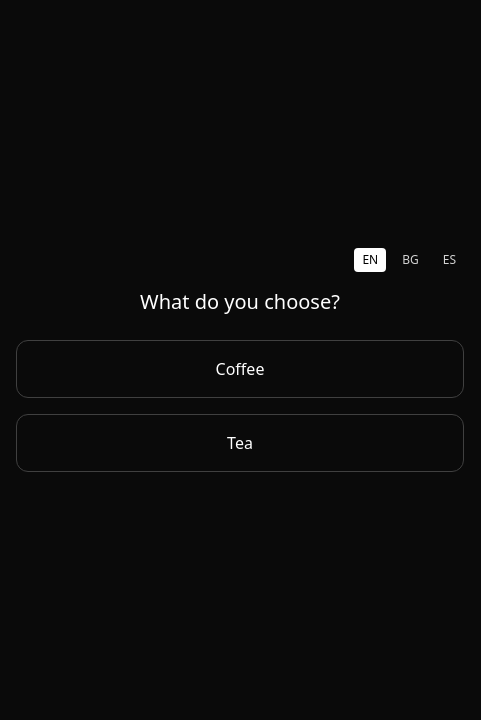
Scenario: App › shows share, download, and try again buttons on result screen
This screenshot has width=481, height=720.
Click the button "Coffee": click(240, 369) top-left (16, 340), bottom-right (464, 398)
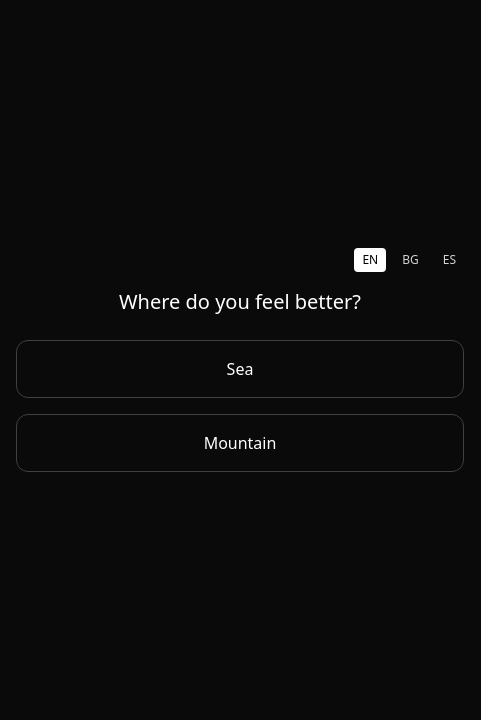
Click the button "Sea": click(240, 369) top-left (16, 340), bottom-right (464, 398)
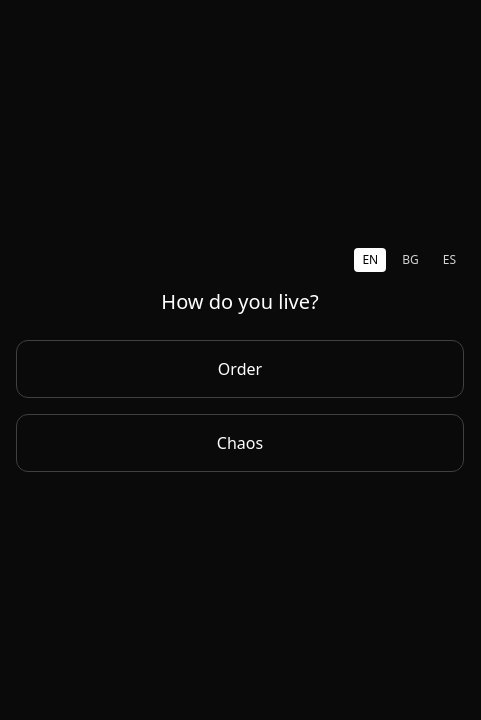
Click the button "Order": click(240, 369) top-left (16, 340), bottom-right (464, 398)
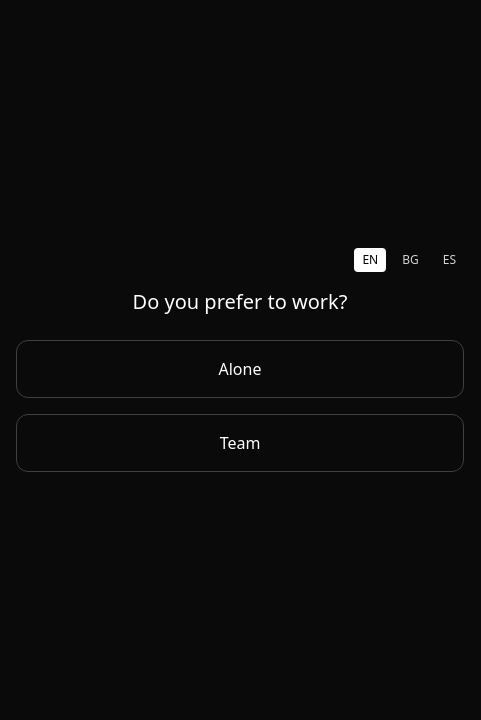
Click the button "Alone": click(240, 369) top-left (16, 340), bottom-right (464, 398)
(page scrolled)
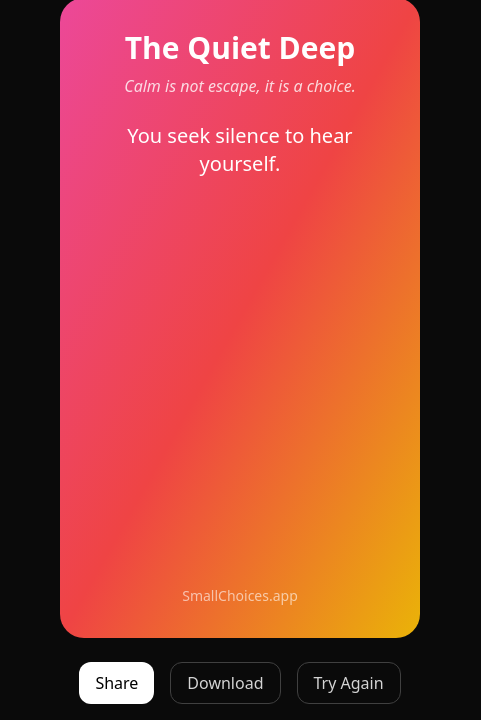
Expected: the button "Share" is shown, top-left (79, 662), bottom-right (154, 704)
Expected: the button "Download" is shown, top-left (170, 662), bottom-right (280, 704)
Expected: the button "Try Again" is shown, top-left (296, 662), bottom-right (401, 704)
